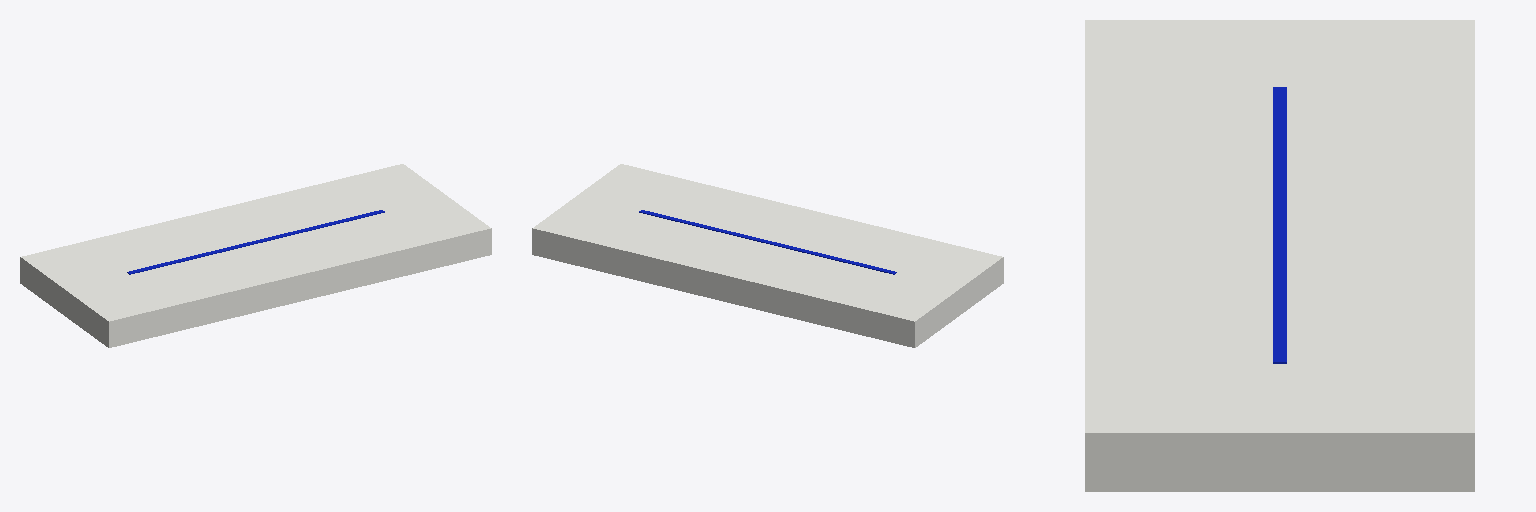
The robot description file, URDF, robot "wipe_board_stage":
<?xml version="1.0"?>
<!-- Built by make_wipe_board.py. The board of the wiping task on a stage that can move it in its own plane
     (stage_x, stage_y), tip it about the middle of the line (stage_rx, stage_ry; the pivot is on the board's
     top face) and move it along its normal (stage_normal, spring-loaded: the compliance of the tool's pad). -->
<robot name="wipe_board_stage">
    <link name="stage_base"/>
    <link name="carrier_x">
        <inertial>
            <mass value="0.1"/>
            <inertia ixx="1e-4" iyy="1e-4" izz="1e-4" ixy="0" ixz="0" iyz="0"/>
        </inertial>
    </link>
    <link name="carrier_y">
        <inertial>
            <mass value="0.1"/>
            <inertia ixx="1e-4" iyy="1e-4" izz="1e-4" ixy="0" ixz="0" iyz="0"/>
        </inertial>
    </link>
    <link name="carrier_rx">
        <inertial>
            <mass value="0.1"/>
            <inertia ixx="1e-4" iyy="1e-4" izz="1e-4" ixy="0" ixz="0" iyz="0"/>
        </inertial>
    </link>
    <link name="carrier_ry">
        <inertial>
            <mass value="0.1"/>
            <inertia ixx="1e-4" iyy="1e-4" izz="1e-4" ixy="0" ixz="0" iyz="0"/>
        </inertial>
    </link>
    <link name="board">
        <inertial>
            <origin xyz="0 0 0.0230"/>
            <mass value="0.3"/>
            <inertia ixx="9.250e-05" iyy="5.650e-04" izz="6.525e-04" ixy="0" ixz="0" iyz="0"/>
        </inertial>
        <visual>
            <geometry>
                <mesh filename="wipe_board.obj"/>
            </geometry>
            <material name="board">
                <color rgba="0.95 0.95 0.93 1"/>
            </material>
        </visual>
        <visual>
            <origin xyz="0 0 0.0281"/>
            <geometry>
                <box size="0.1 0.002 0.0004"/>
            </geometry>
            <material name="ink">
                <color rgba="0.1 0.2 0.8 1"/>
            </material>
        </visual>
        <collision>
            <geometry>
                <mesh filename="wipe_board.obj"/>
            </geometry>
            <sdf resolution="256"/>
        </collision>
    </link>
    <joint name="stage_x" type="prismatic">
        <parent link="stage_base"/>
        <child link="carrier_x"/>
        <axis xyz="1 0 0"/>
        <limit lower="-0.02" upper="0.02" effort="1000" velocity="1"/>
    </joint>
    <joint name="stage_y" type="prismatic">
        <parent link="carrier_x"/>
        <child link="carrier_y"/>
        <axis xyz="0 1 0"/>
        <limit lower="-0.02" upper="0.02" effort="1000" velocity="1"/>
    </joint>
    <joint name="stage_rx" type="revolute">
        <parent link="carrier_y"/>
        <child link="carrier_rx"/>
        <origin xyz="0 0 0.028"/>
        <axis xyz="1 0 0"/>
        <limit lower="-0.2" upper="0.2" effort="1000" velocity="10"/>
    </joint>
    <joint name="stage_ry" type="revolute">
        <parent link="carrier_rx"/>
        <child link="carrier_ry"/>
        <axis xyz="0 1 0"/>
        <limit lower="-0.2" upper="0.2" effort="1000" velocity="10"/>
    </joint>
    <joint name="stage_normal" type="prismatic">
        <parent link="carrier_ry"/>
        <child link="board"/>
        <origin xyz="0 0 -0.028"/>
        <axis xyz="0 0 1"/>
        <limit lower="-0.02" upper="0.02" effort="1000" velocity="1"/>
    </joint>
</robot>

--- What the picture shows (computed from the rendered views, not written in the file) ---
Views: 3 orthographic renders of the robot side by side, from view 1: azimuth 30°, elevation 25°; view 2: azimuth 150°, elevation 25°; view 3: azimuth 270°, elevation 25°.
Model wipe_board_stage with 6 links and 5 joints (2 revolute, 3 prismatic), rooted at stage_base, posed all joints at 0.
Links seen in each view (by area): view 1: board; view 2: board; view 3: board.
Boxes of the visible links, x1,y1,x2,y2 form: board: (20,164,491,347); board: (532,164,1003,347); board: (1085,20,1474,491).
Size in the robot's own frame: 0.15 by 0.06 by 0.0103 metres.
Meshes: 1 distinct files referenced, 1 mesh visuals loaded (1 OBJ).
